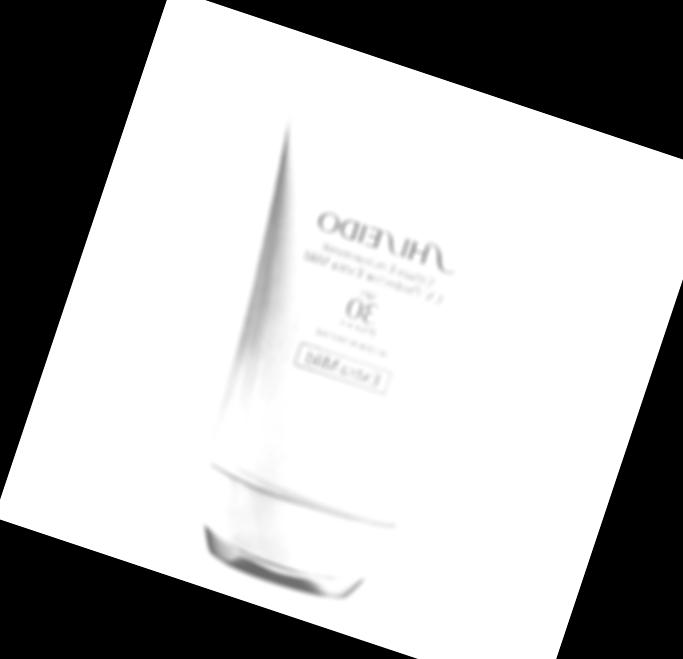cosmetic: (142, 96, 546, 629)
